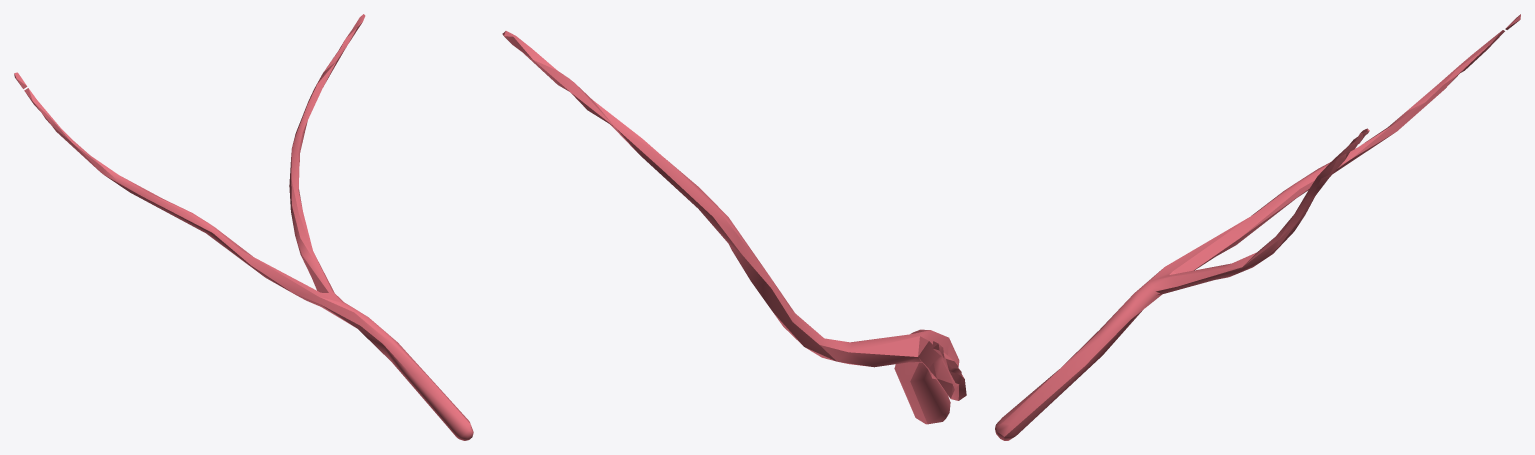
Rendered from fma50377_fj5032.glb.
3 renders of one model, left to right at view 1: azimuth 30°, elevation 25°; view 2: azimuth 150°, elevation 25°; view 3: azimuth 270°, elevation 25°, orthographic. The views are drawn at different scales.
Parts seen in each view (by area): view 1: FMA50377_FJ5032; view 2: FMA50377_FJ5032; view 3: FMA50377_FJ5032.
Boxes of the visible parts, bbox=[...] form: FMA50377_FJ5032: bbox=[14, 14, 473, 440]; FMA50377_FJ5032: bbox=[502, 31, 966, 424]; FMA50377_FJ5032: bbox=[995, 14, 1520, 440].
Size of the model in its own units: 0.0179 by 0.0179 by 0.0249.
